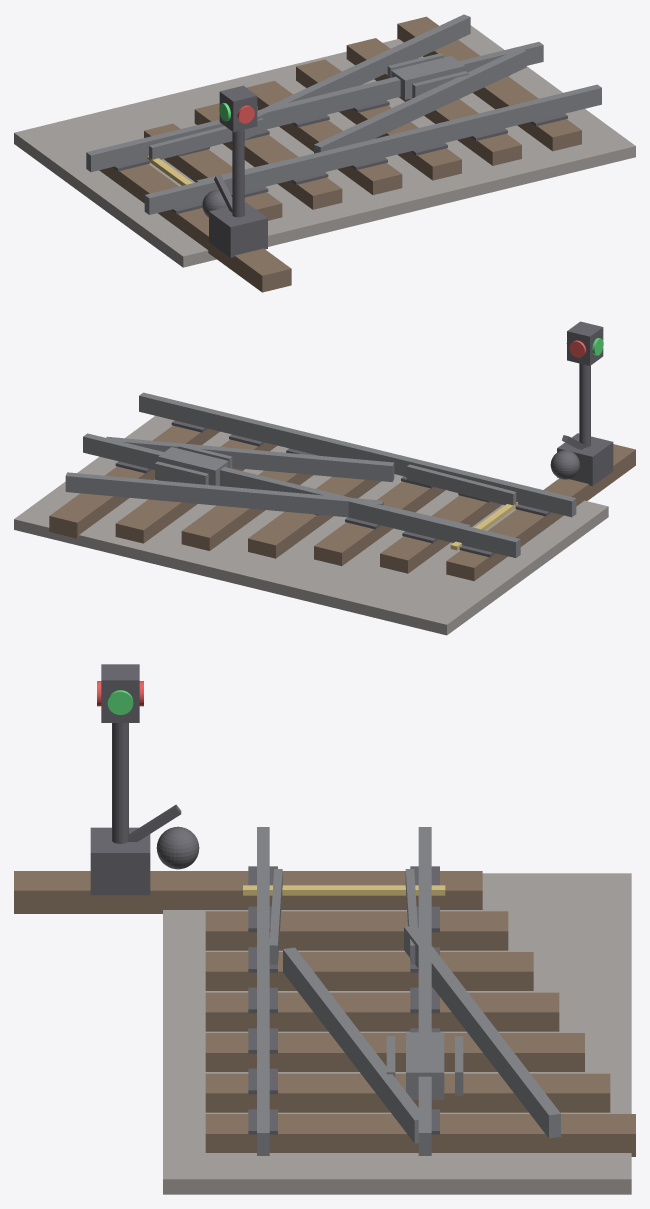
Rendered from rail_switch.glb.
The picture shows the model from 3 angles, top to bottom: view 1: azimuth 30°, elevation 25°; view 2: azimuth 150°, elevation 25°; view 3: azimuth 270°, elevation 25°; orthographic projection. The views are drawn at different scales.
Visible parts, largest first — view 1: Cube, Cube.022, Cube.023, Cube.001, Cube.025, Cube.024, Cube.019, Cube.010, Cube.007, Cube.016, Cube.013, Cube.032 (+8 smaller); view 2: Cube, Cube.022, Cube.023, Cube.024, Cube.001, Cube.025, Cube.019, Cube.007, Cube.010, Cube.004, Cube.013, Cube.016 (+8 smaller); view 3: Cube, Cube.019, Cube.001, Cube.016, Cube.010, Cube.004, Cube.013, Cube.007, Cube.024, Cube.025, Cube.022, Cube.023 (+8 smaller).
Boxes of the visible parts, x1=… form: Cube: x1=14, y1=25, x2=635, y2=267; Cube.022: x1=144, y1=84, x2=601, y2=214; Cube.023: x1=86, y1=42, x2=543, y2=172; Cube.001: x1=99, y1=164, x2=291, y2=292; Cube.025: x1=314, y1=48, x2=526, y2=153; Cube.024: x1=244, y1=14, x2=470, y2=139; Cube.019: x1=397, y1=16, x2=581, y2=151; Cube.010: x1=247, y1=81, x2=402, y2=194; Cube.007: x1=194, y1=103, x2=342, y2=209; Cube.016: x1=346, y1=38, x2=521, y2=165; Cube.013: x1=296, y1=59, x2=461, y2=180; Cube.032: x1=209, y1=202, x2=267, y2=257; Cube: x1=14, y1=416, x2=608, y2=635; Cube.022: x1=139, y1=392, x2=576, y2=517; Cube.023: x1=83, y1=433, x2=520, y2=557; Cube.024: x1=65, y1=472, x2=383, y2=517; Cube.001: x1=446, y1=444, x2=635, y2=580; Cube.025: x1=106, y1=436, x2=394, y2=481; Cube.019: x1=49, y1=425, x2=219, y2=538; Cube.007: x1=314, y1=481, x2=445, y2=565; Cube.010: x1=248, y1=476, x2=381, y2=558; Cube.004: x1=380, y1=495, x2=501, y2=573; Cube.013: x1=181, y1=470, x2=313, y2=550; Cube.016: x1=115, y1=439, x2=277, y2=543; Cube: x1=163, y1=873, x2=631, y2=1194; Cube.019: x1=205, y1=1114, x2=635, y2=1156; Cube.001: x1=14, y1=871, x2=482, y2=913; Cube.016: x1=205, y1=1073, x2=610, y2=1112; Cube.010: x1=205, y1=992, x2=559, y2=1031; Cube.004: x1=205, y1=911, x2=508, y2=950; Cube.013: x1=205, y1=1033, x2=584, y2=1071; Cube.007: x1=205, y1=952, x2=533, y2=990; Cube.024: x1=404, y1=925, x2=560, y2=1138; Cube.025: x1=283, y1=947, x2=426, y2=1143; Cube.022: x1=257, y1=827, x2=269, y2=1155; Cube.023: x1=418, y1=827, x2=431, y2=1155.
Bounding box in the file's own units: 3.4 × 1.26 × 2.92.
